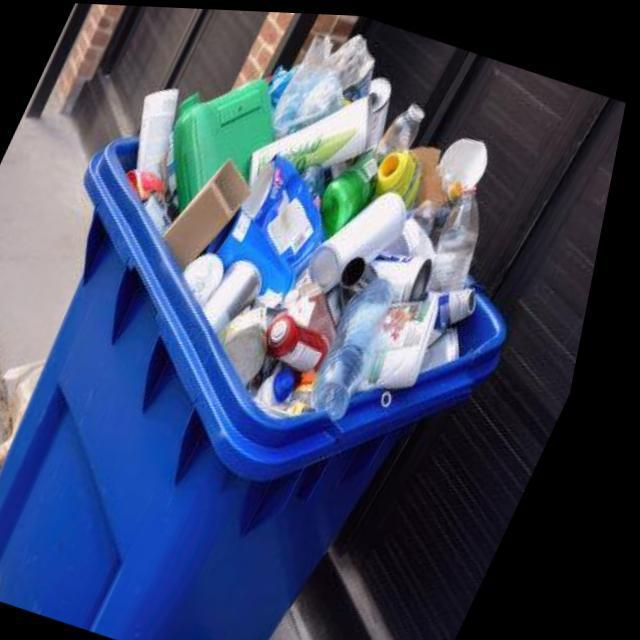Garbage: (122, 26, 503, 427)
Glass_bottle: (381, 99, 428, 151)
Plastic_Bag: (277, 30, 376, 135)
Plastic_Container: (177, 76, 278, 209), (255, 92, 372, 180), (318, 188, 414, 288), (215, 208, 306, 294), (279, 309, 342, 368), (142, 87, 181, 173), (382, 147, 427, 204)
Plastic_bottle: (327, 273, 402, 417), (439, 184, 487, 288), (328, 148, 384, 234)
tin_box: (215, 257, 271, 330), (370, 73, 394, 146)
